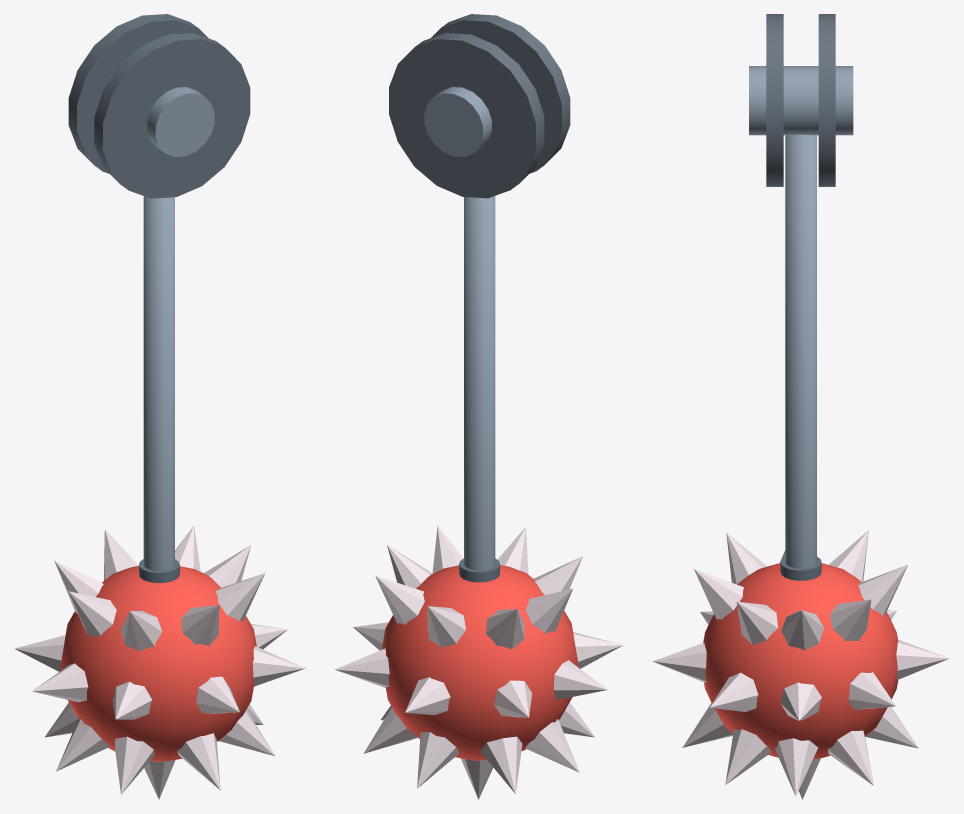
Rendered from Mace.fbx.
The picture shows the model from 3 angles, left to right: view 1: azimuth 30°, elevation 25°; view 2: azimuth 150°, elevation 25°; view 3: azimuth 270°, elevation 25°; orthographic projection.
Parts seen in each view (by area): view 1: Mace; view 2: Mace; view 3: Mace.
Boxes of the visible parts, <box> form: Mace: <box>14,14,305,799</box>; Mace: <box>335,14,623,799</box>; Mace: <box>652,14,949,799</box>.
Size of the model in its own units: 171 by 494 by 171.
